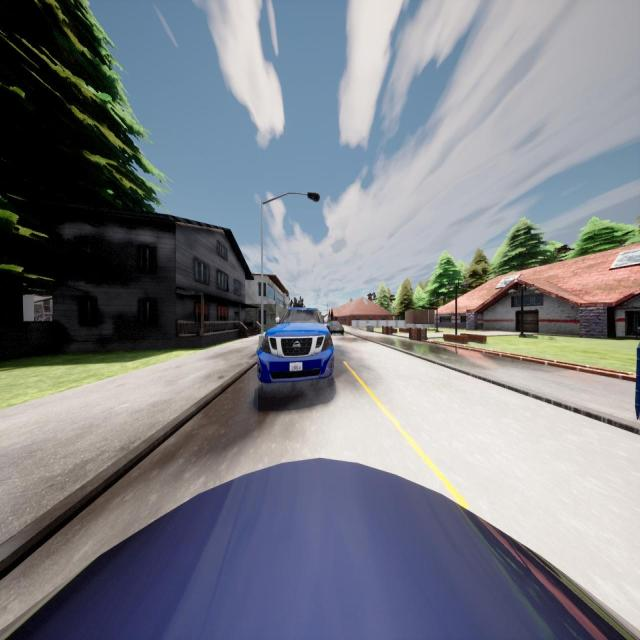Vehicle: (0, 462, 640, 640), (257, 307, 334, 385), (328, 320, 343, 336)
